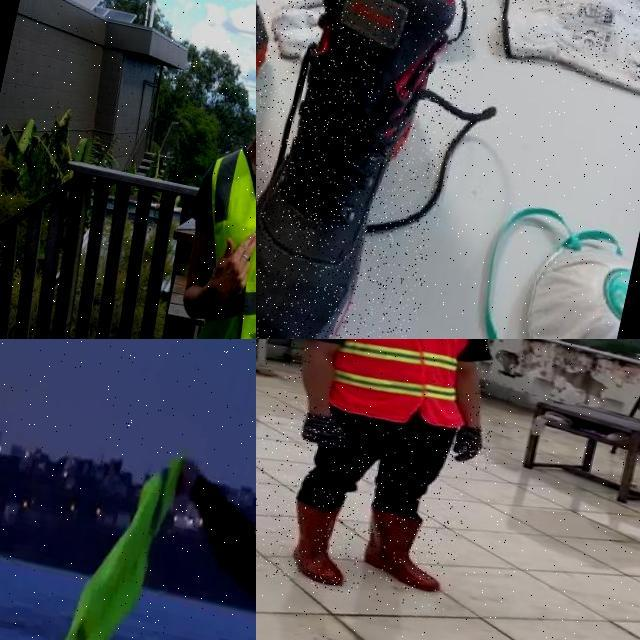boots: (256, 0, 487, 339), (266, 492, 361, 590), (364, 504, 453, 592)
vest: (301, 339, 488, 435), (177, 131, 256, 339)
